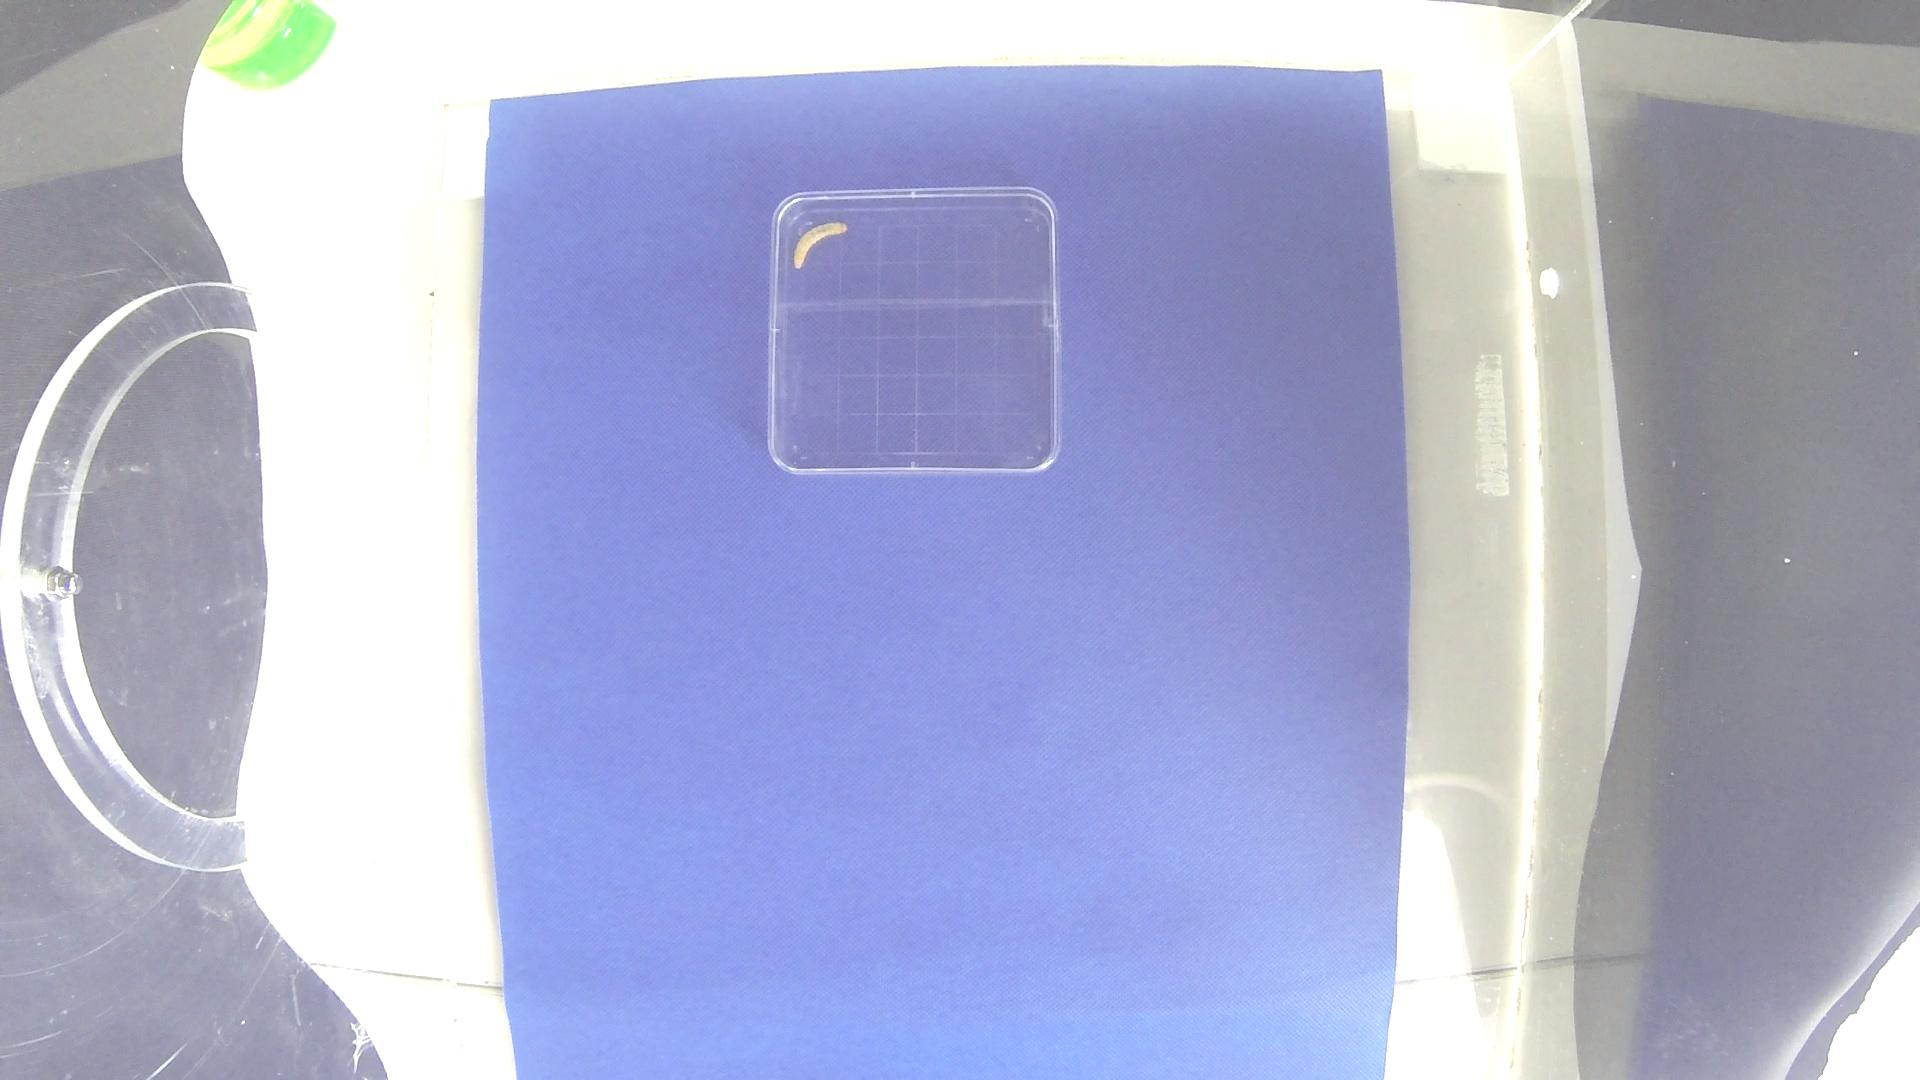larva: (792, 215, 852, 270)
